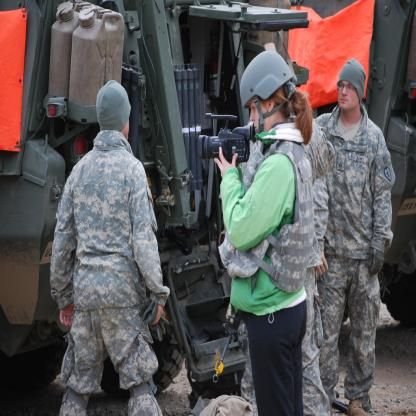Helmet: (236, 46, 298, 131)
